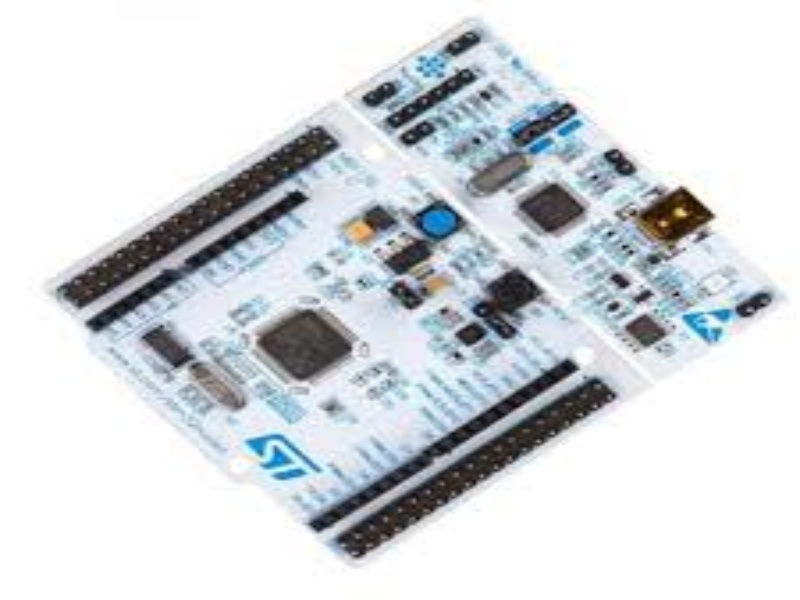stmnucleo: (43, 4, 786, 555)
